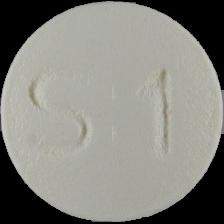64980-133: (0, 0, 224, 224)
